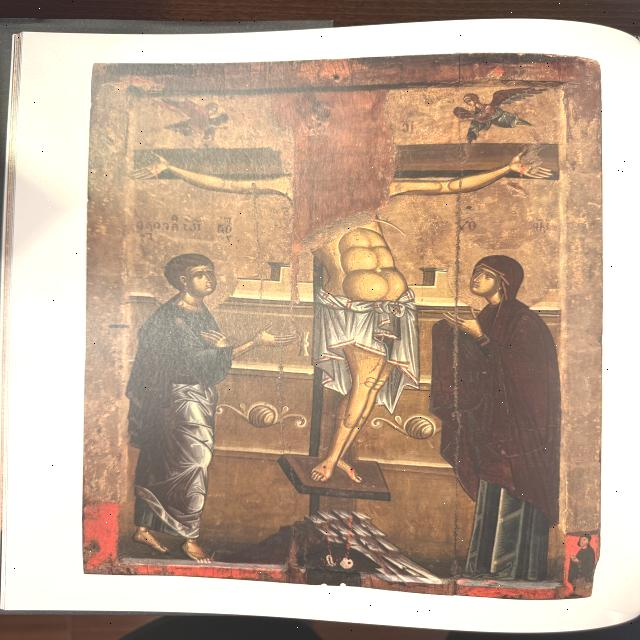angel: (447, 87, 555, 143), (147, 97, 243, 145)
aura: (444, 240, 554, 309), (141, 241, 241, 314)
christ_crucifiction: (119, 127, 570, 559)
mary: (430, 248, 560, 588)
saint: (94, 236, 260, 558)
wing: (489, 88, 551, 111), (152, 100, 204, 126), (209, 114, 231, 128)
